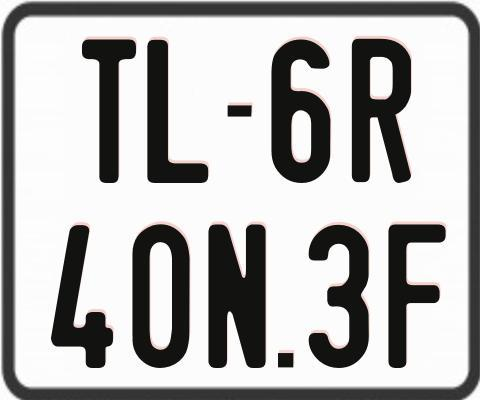0: (129, 221, 187, 370)
3: (306, 225, 372, 371)
4: (51, 224, 114, 369)
6: (269, 37, 334, 186)
F: (385, 222, 447, 367)
L: (146, 38, 208, 184)
N: (206, 221, 270, 367)
R: (349, 39, 409, 185)
T: (81, 39, 137, 188)
